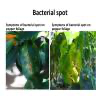Bell_pepper leaf spot: (17, 42, 41, 89), (59, 40, 82, 88)
